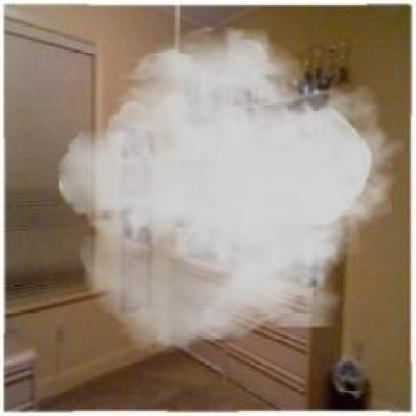Smoke: (57, 23, 408, 357)
